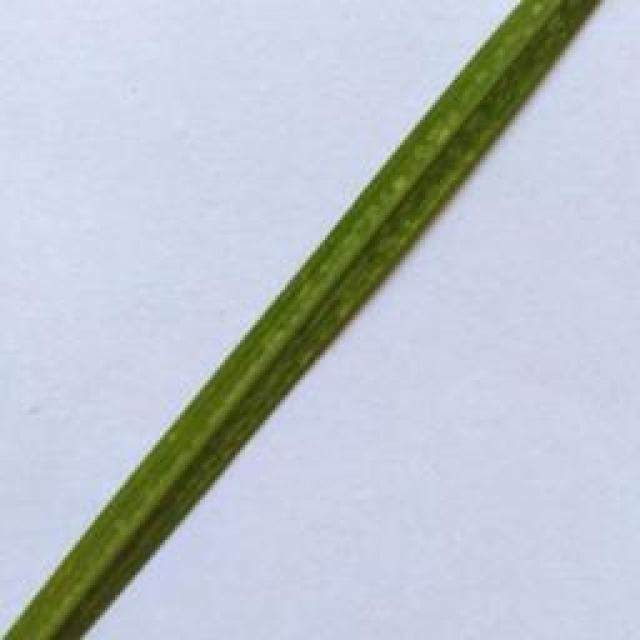Healthy-Plant: (13, 0, 606, 640)
